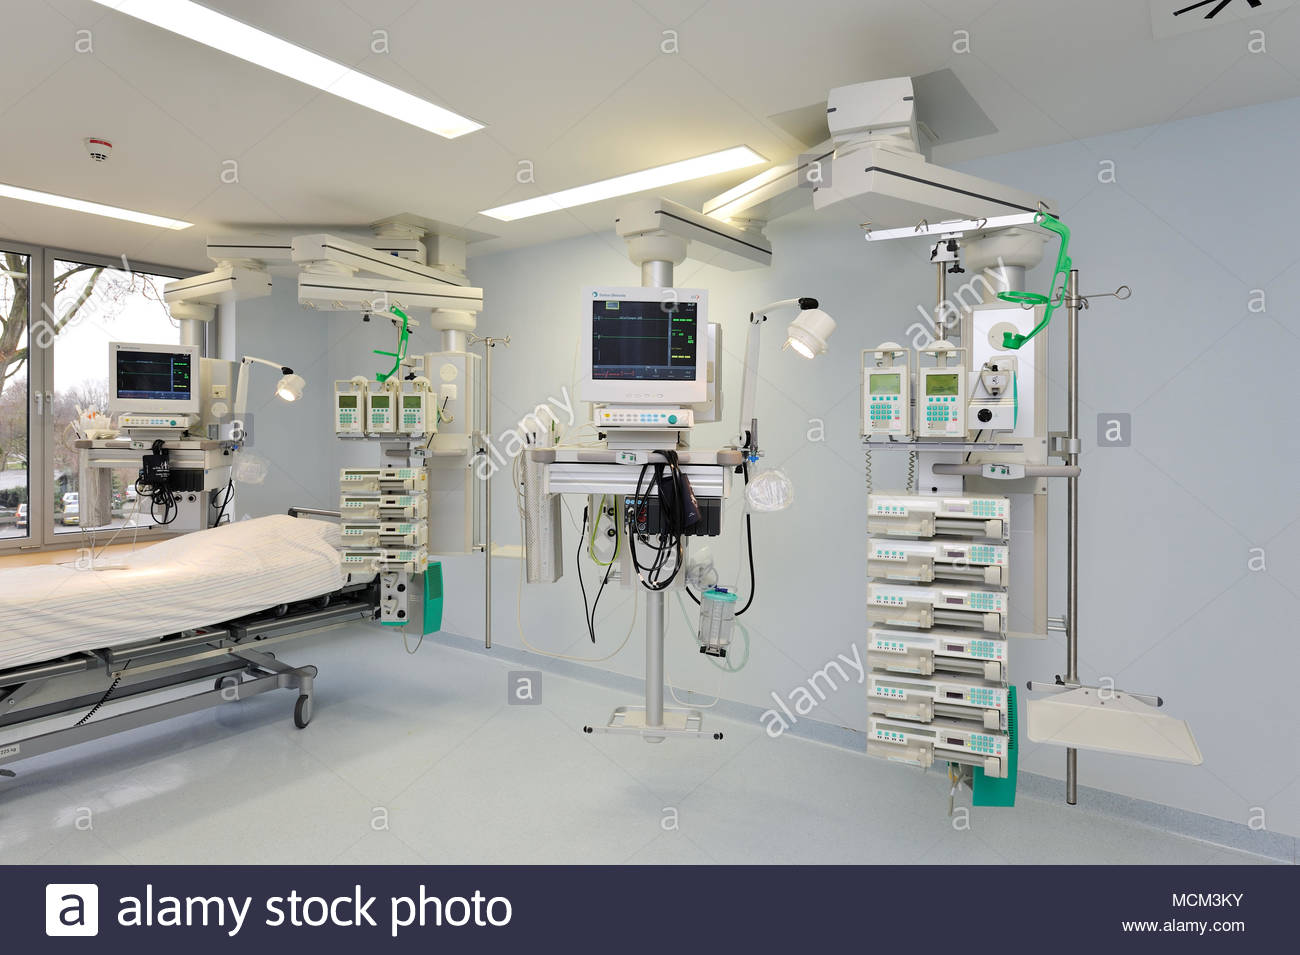bedside_monitor: (577, 289, 707, 402), (110, 342, 200, 413)
handle: (34, 391, 43, 416), (45, 391, 55, 416)
hospital_bed: (1, 487, 380, 759)
infusion_pump: (862, 363, 965, 442), (335, 394, 429, 436)
iv_pole: (1020, 266, 1135, 682), (467, 332, 511, 649)
syringe_pump: (866, 716, 1012, 772), (865, 589, 1009, 637), (867, 624, 1011, 672), (867, 493, 1011, 541), (870, 670, 1014, 718), (865, 538, 1009, 586), (337, 542, 433, 570), (337, 516, 433, 544), (338, 487, 434, 515), (338, 466, 434, 493)
